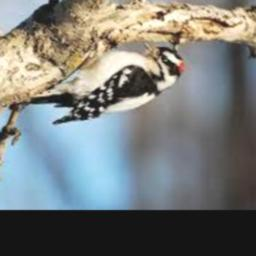Woodpecker: (9, 40, 183, 124)
